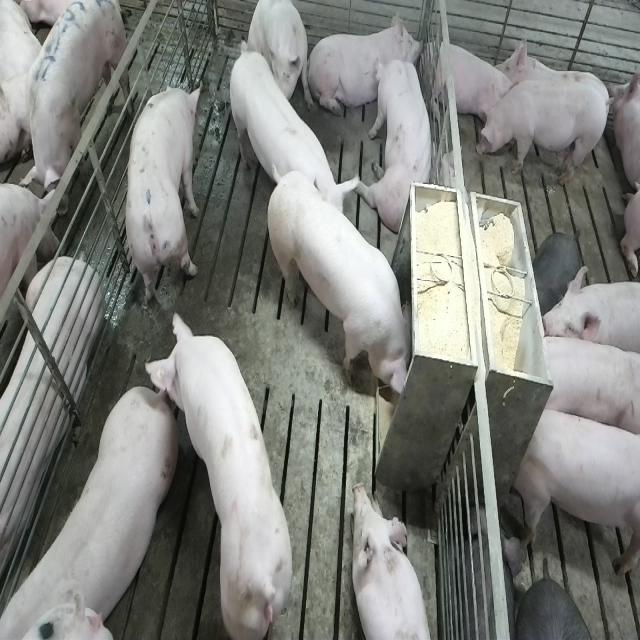Feeding: (271, 171, 421, 399)
Sitting: (361, 58, 437, 234), (245, 0, 308, 108)
Standing: (141, 308, 293, 638), (6, 378, 182, 634), (229, 44, 363, 229), (514, 398, 639, 578), (20, 0, 127, 207), (124, 80, 204, 310), (478, 80, 612, 190), (532, 331, 637, 441), (538, 268, 640, 358)
Sternal_lying: (0, 245, 100, 596), (351, 483, 433, 640), (312, 11, 422, 120), (427, 36, 511, 133)
